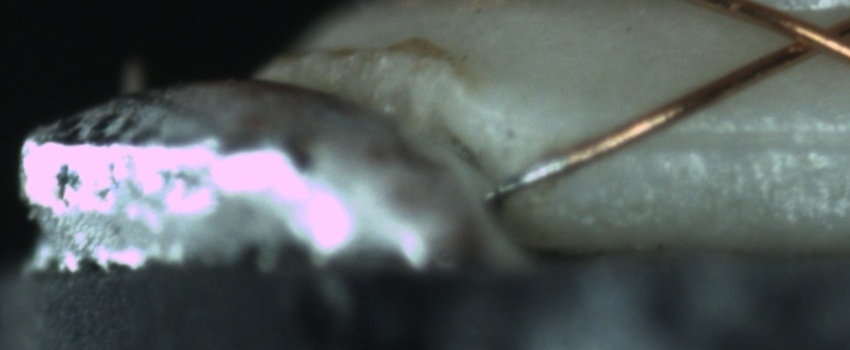CL: (768, 7, 850, 65)
DL: (621, 101, 845, 174)
TS: (490, 153, 563, 201)
TTCW: (489, 145, 575, 201)
